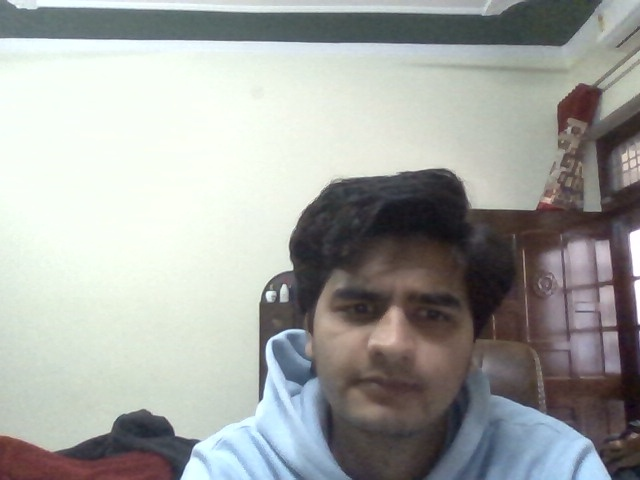anger: (335, 278, 456, 421)
open Eye: (340, 295, 390, 322), (417, 300, 451, 325)
